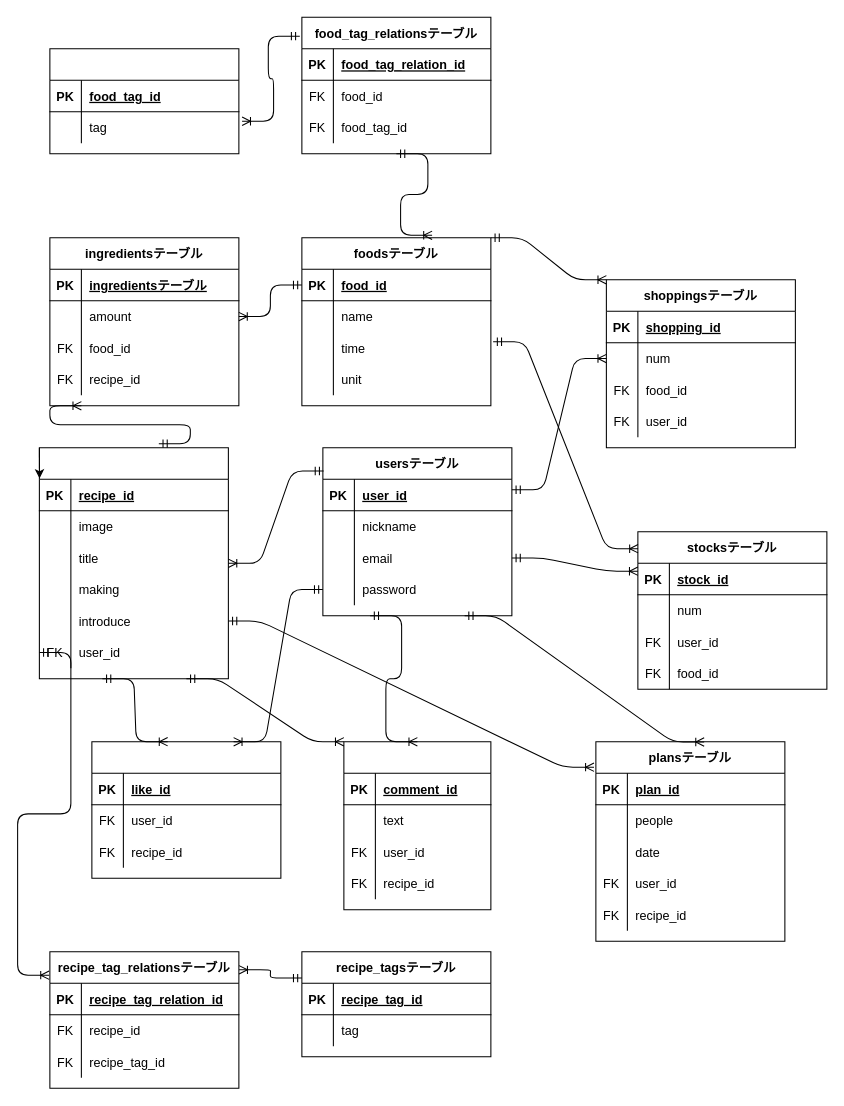
Image size: 844x1106. Some labels were removed from this diagram. The shapes that lost their labels are listed below. From the top down, each one's box as (x1, y1, x2, y2) in pixels, then its label:
(49, 48, 239, 154): food_tagsテーブル
(38, 447, 228, 679): recipesテーブル
(91, 741, 281, 878): likesテーブル
(343, 741, 491, 910): commentsテーブル
